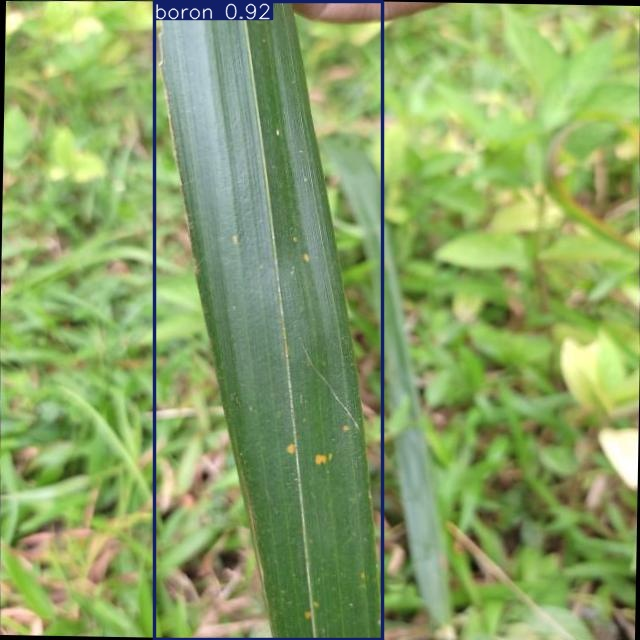nitrogen: (154, 2, 382, 640)
